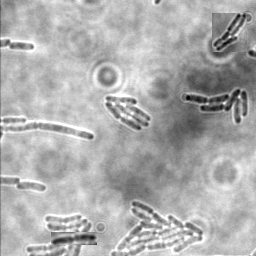Dividing: (1, 123, 95, 142), (51, 232, 97, 245), (8, 41, 35, 52)
Microcolony: (109, 200, 205, 255), (25, 212, 94, 255), (184, 89, 248, 126), (103, 96, 150, 132), (212, 13, 247, 52), (16, 182, 48, 193)
